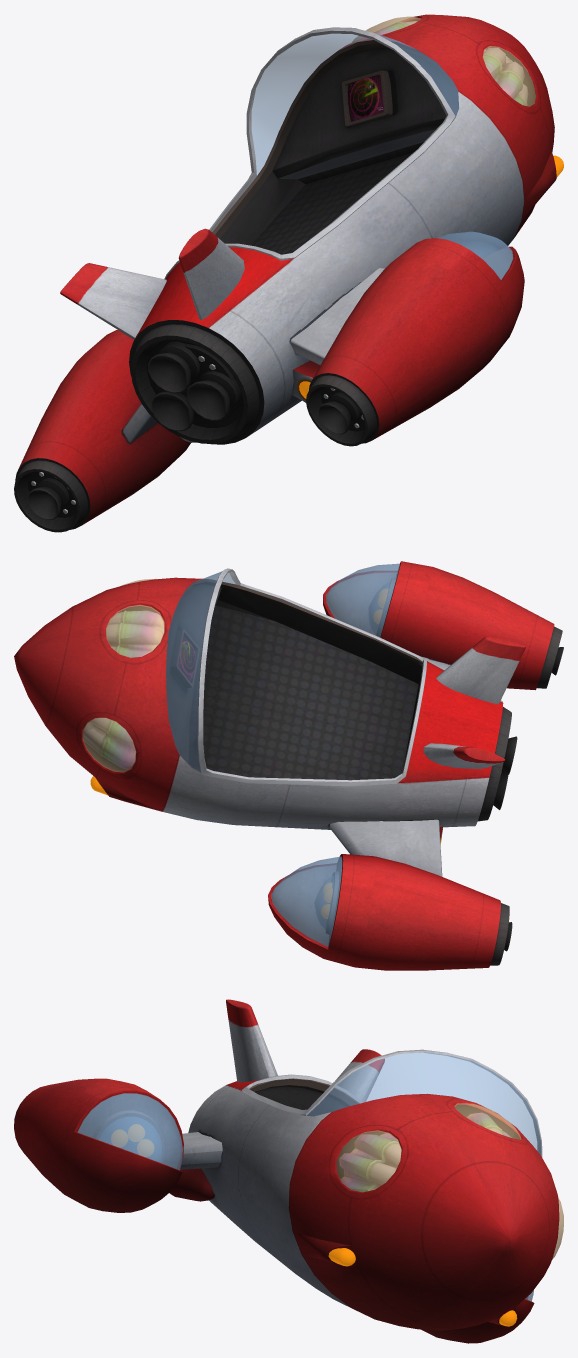
Rendered from rocket.gltf.
The picture shows the model from 3 angles, top to bottom: view 1: azimuth 30°, elevation 25°; view 2: azimuth 150°, elevation 25°; view 3: azimuth 270°, elevation 25°; orthographic projection. The views are drawn at different scales.
Parts seen in each view (by area): view 1: Object_3, Object_4, Object_2, Object_5; view 2: Object_3, Object_4, Object_2, Object_5; view 3: Object_3, Object_2, Object_4, Object_5, Object_8, Object_7.
Boxes of the visible parts, box(x1,y1,x2,y2) form: Object_3: box(18, 14, 556, 525); Object_4: box(14, 19, 535, 532); Object_2: box(251, 16, 535, 279); Object_5: box(376, 21, 527, 105); Object_3: box(14, 561, 554, 970); Object_4: box(84, 561, 563, 965); Object_2: box(82, 563, 399, 946); Object_5: box(83, 611, 163, 769); Object_3: box(14, 999, 559, 1343); Object_2: box(77, 1052, 563, 1301); Object_4: box(14, 1079, 533, 1302); Object_5: box(339, 1113, 511, 1191); Object_8: box(111, 1124, 153, 1156); Object_7: box(328, 1248, 517, 1326).
Bounding box in the file's own units: 669 × 471 × 611.
7 materials, 7 textured.
